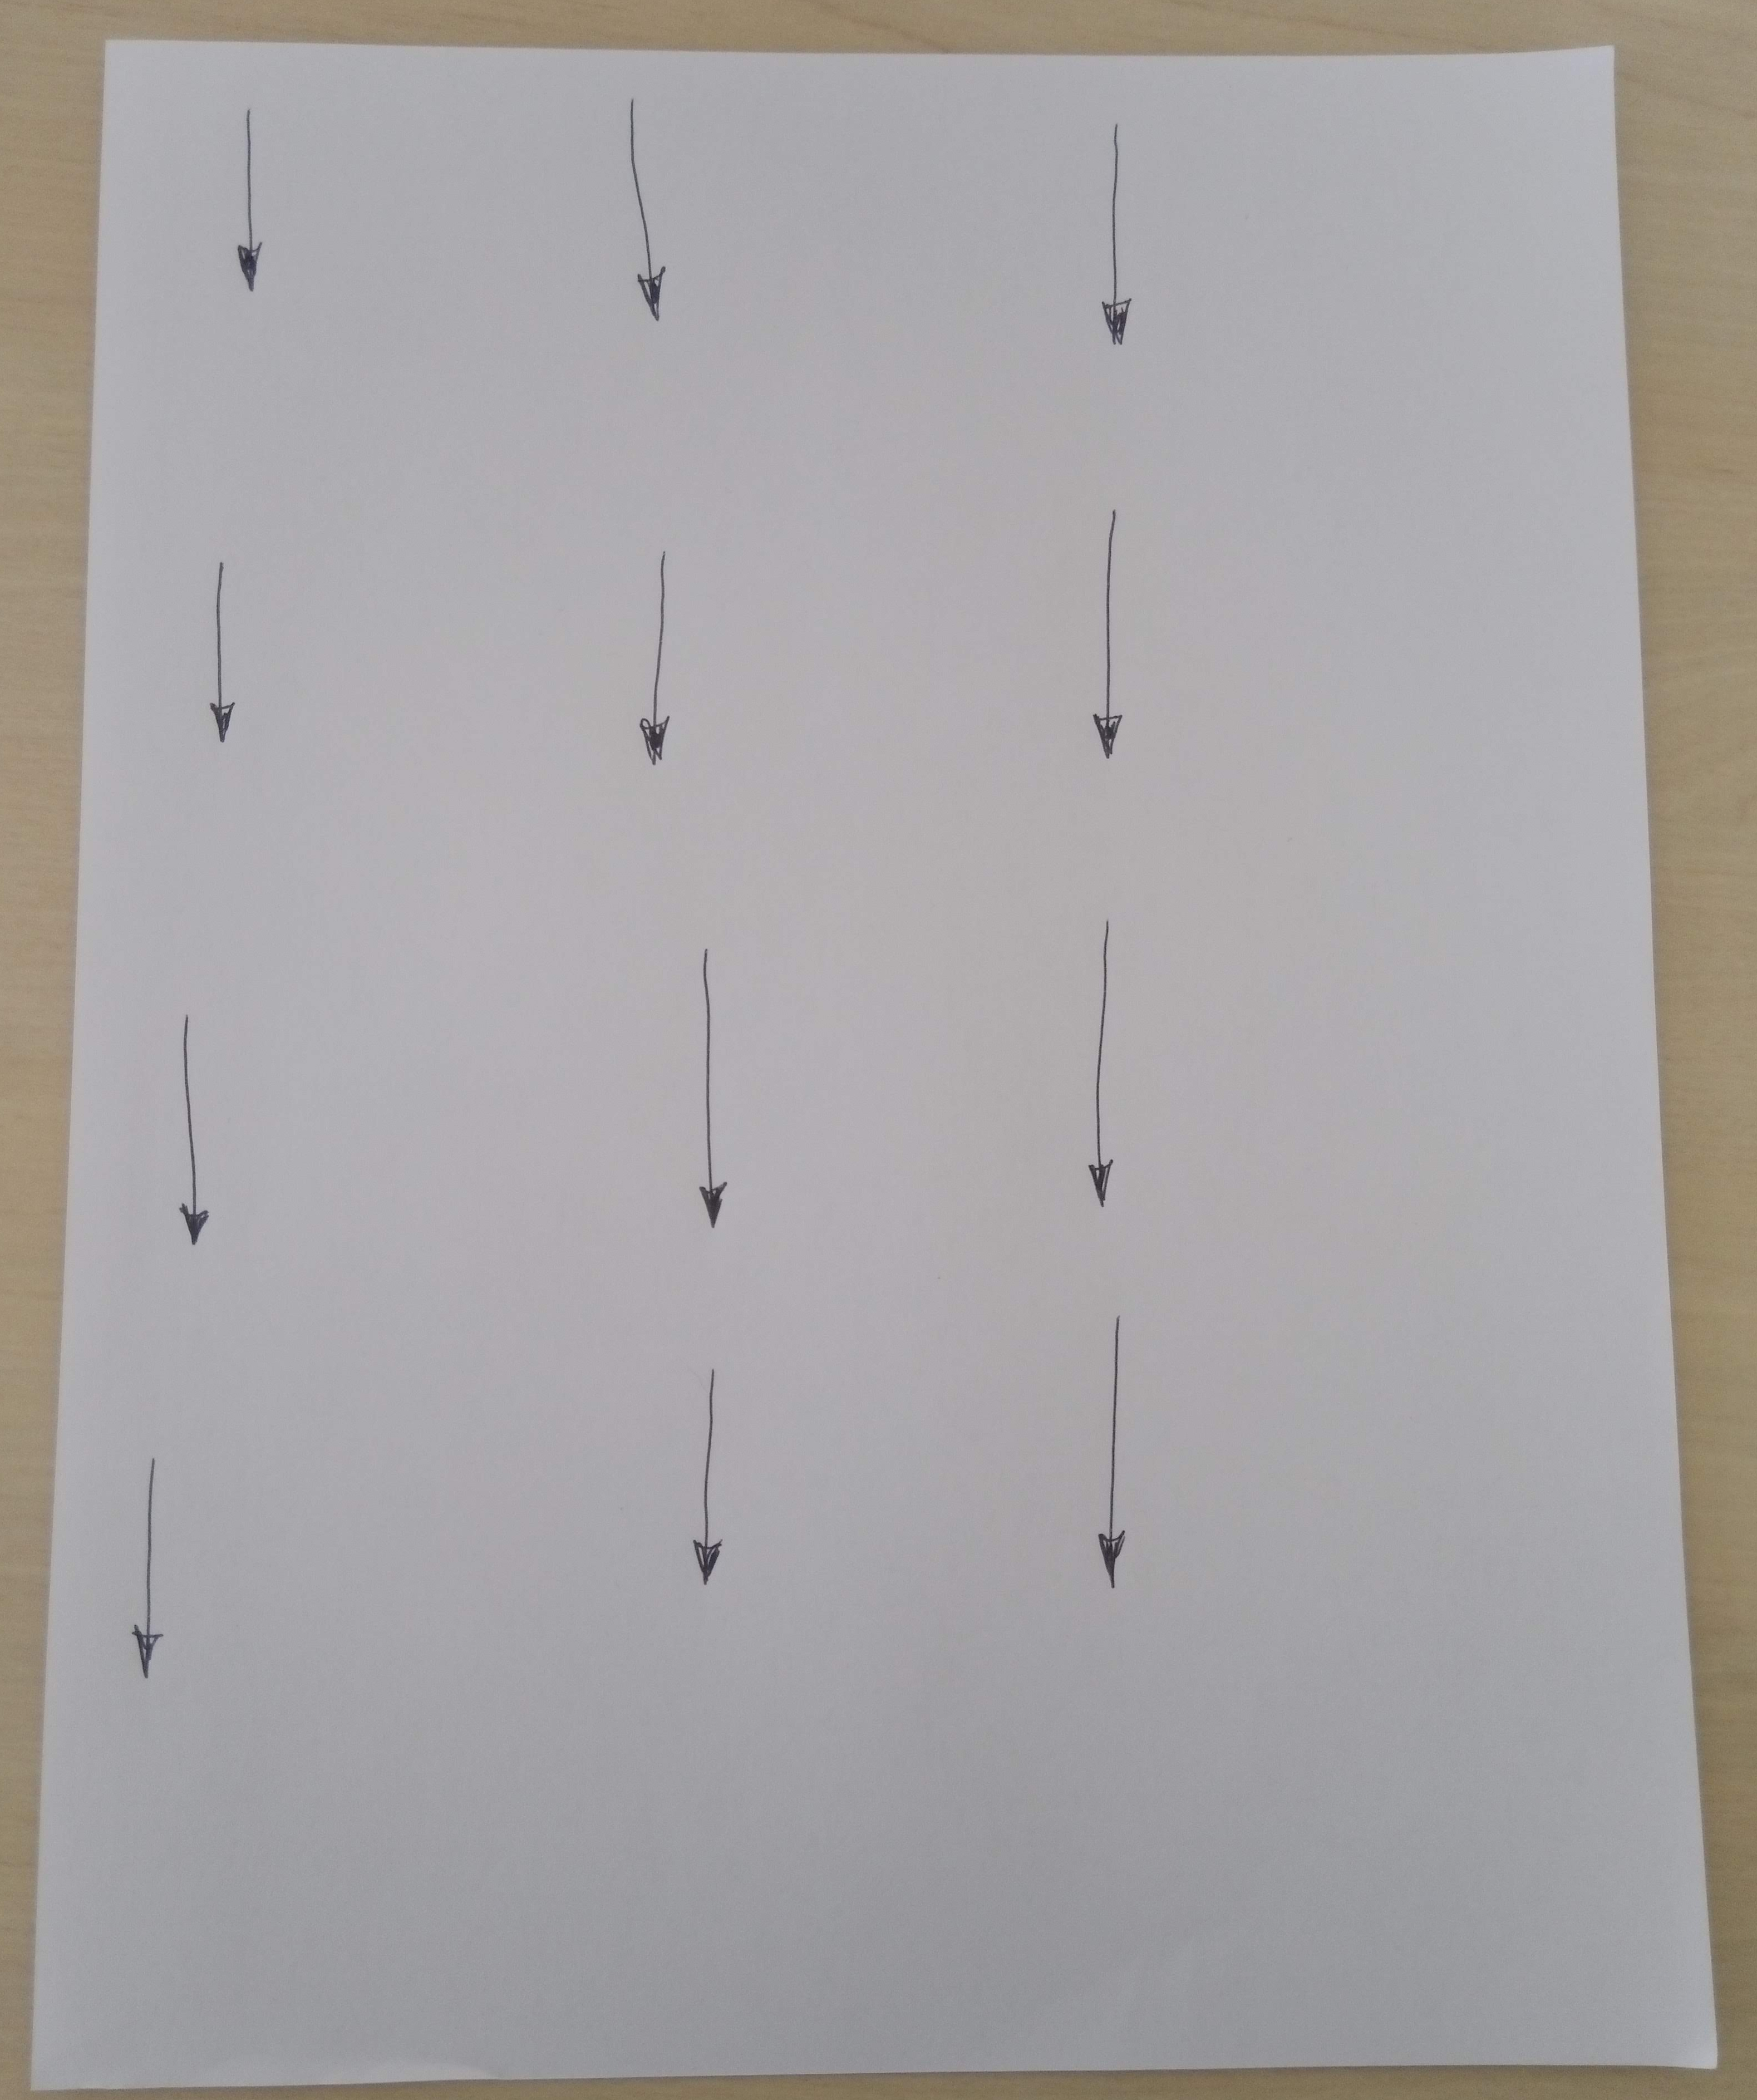arrow_line_down: (661, 917, 764, 1256), (1056, 1291, 1159, 1624), (1057, 905, 1162, 1228), (143, 977, 237, 1265), (661, 1341, 752, 1613), (1066, 488, 1150, 781), (103, 1439, 195, 1701), (618, 534, 705, 778), (611, 80, 686, 340), (1087, 108, 1155, 378), (187, 534, 262, 766), (227, 92, 283, 317)
